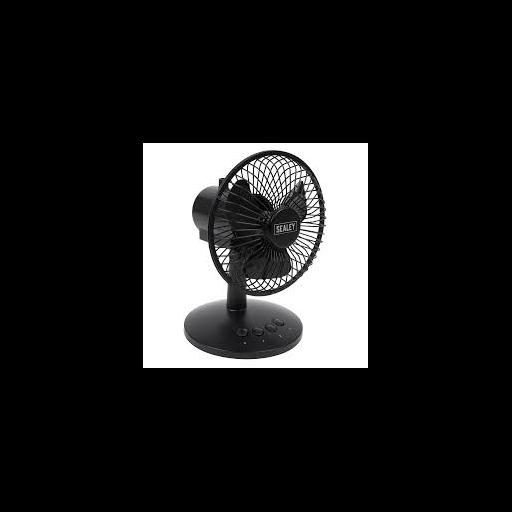Fan: (208, 150, 326, 295)
